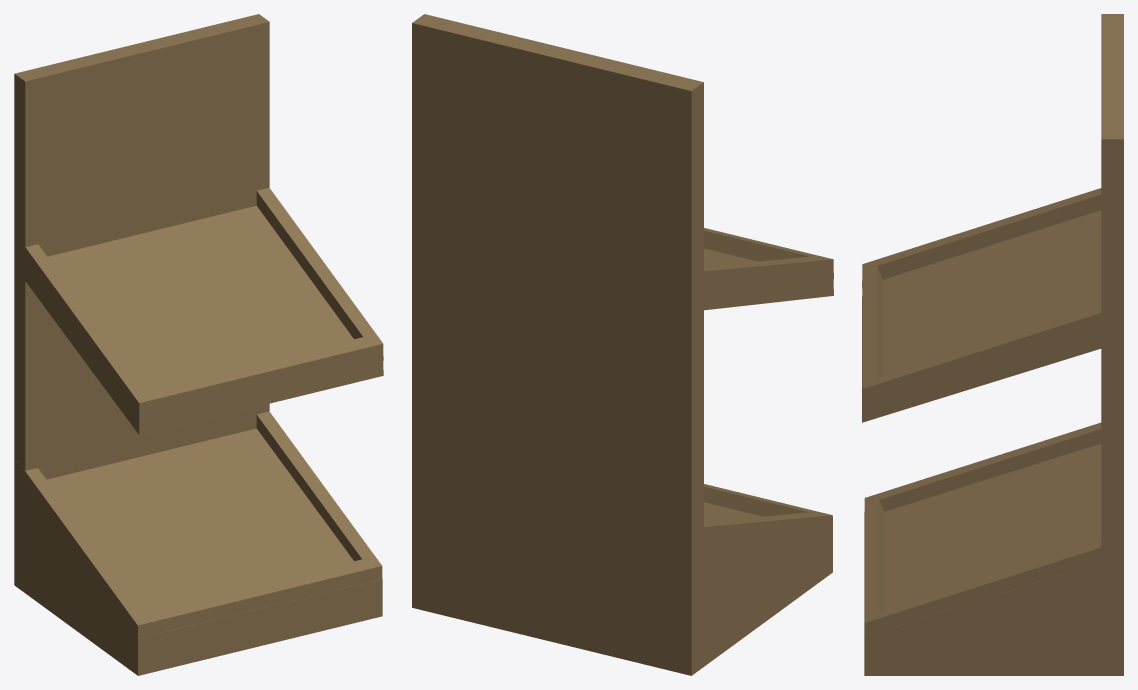
Rendered from BoxShelf.fbx.
3 views of the same model, side by side, from view 1: azimuth 30°, elevation 25°; view 2: azimuth 150°, elevation 25°; view 3: azimuth 270°, elevation 25° (orthographic). The views are drawn at different scales.
Visible parts, largest first — view 1: BoxShelf; view 2: BoxShelf; view 3: BoxShelf.
Part boxes in pixels (x1,y1,x2,y2): BoxShelf: (14, 14, 383, 675); BoxShelf: (412, 14, 833, 675); BoxShelf: (862, 14, 1123, 675).
Size of the model in its own units: 286 by 572 by 253.
